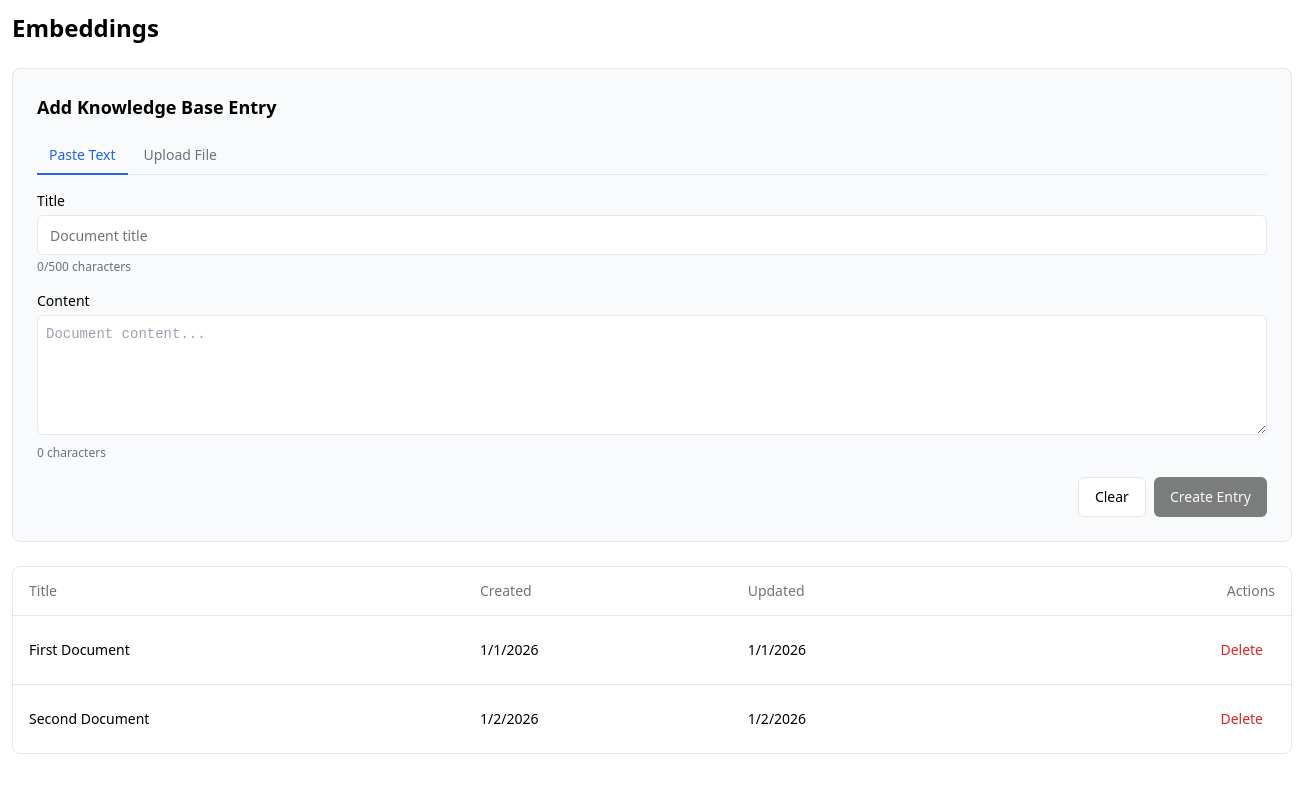
Scenario: EmbeddingsList › shows the document content when its title is clicked
The width and height of the screenshot is (1304, 812).
Click the button "First Document": (79, 650) [29,640,130,660]
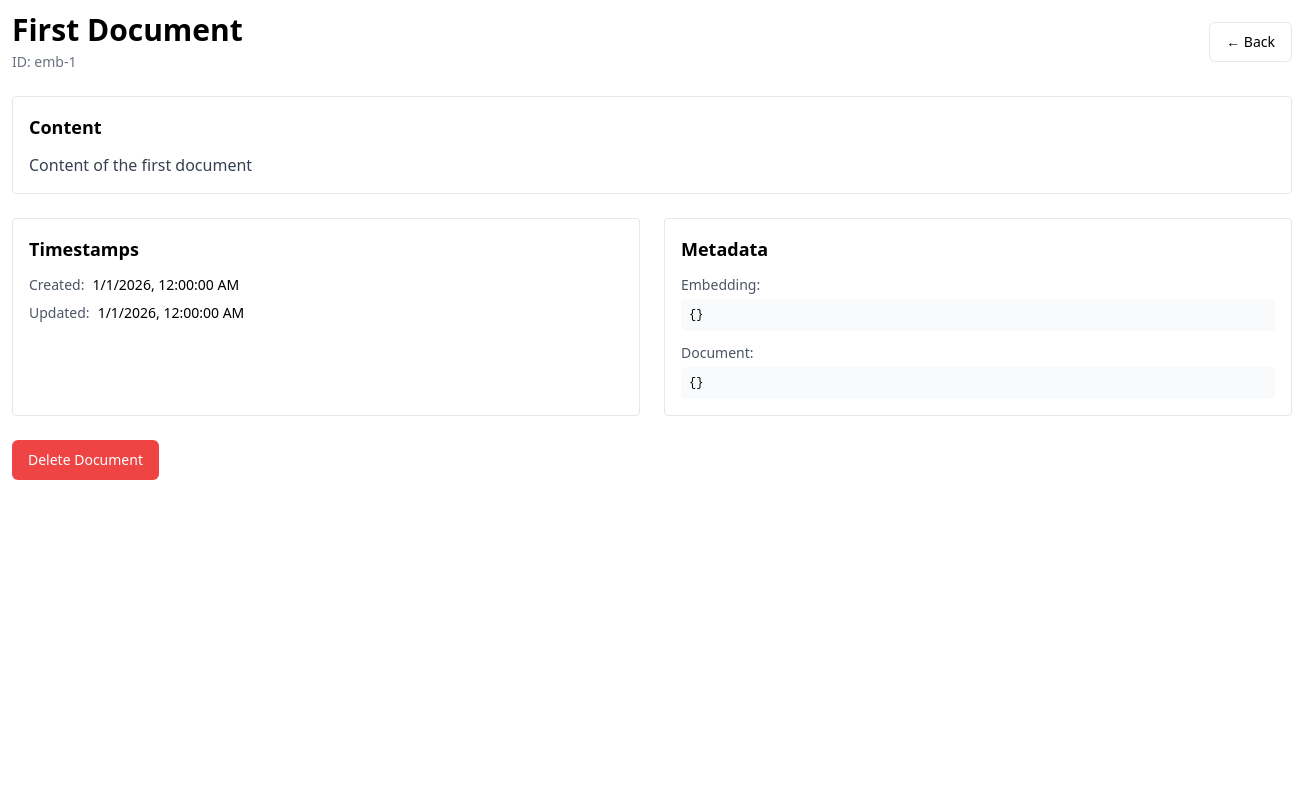
Expected: the text "Content of the first document" is shown, [29,154,252,176]
